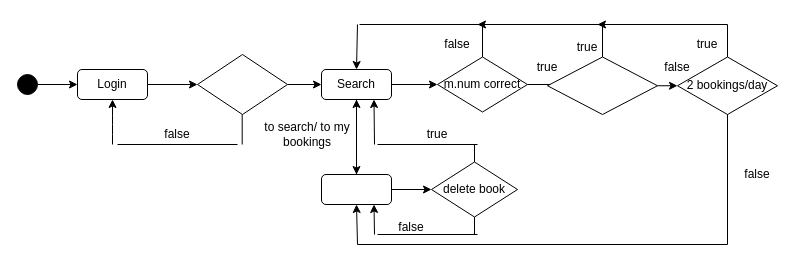
Some shapes in this 795 by 270 pixel diagram are drawn without their labels. The shapes that lost their labels are listed below. From the top down, each one's box as (x1, y1, x2, y2) in pixels, then its label:
(196, 54, 288, 114): authenticate
(546, 56, 658, 114): court already booked
(320, 174, 392, 204): My bookings
